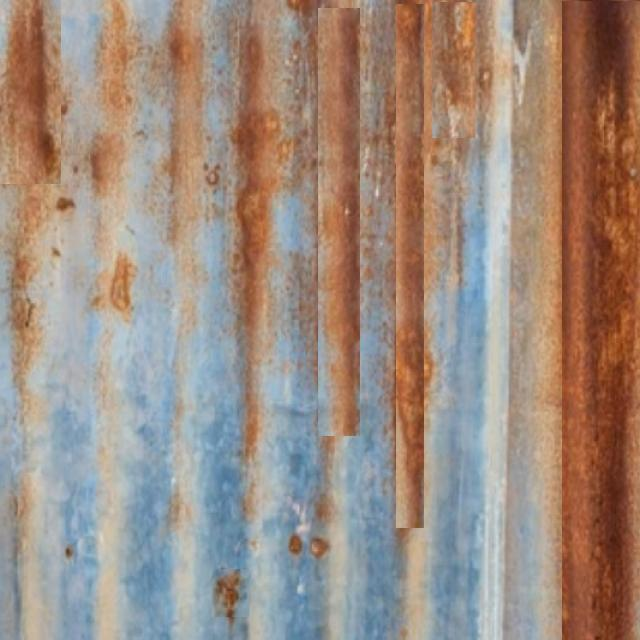Corrosion: (564, 0, 640, 640), (236, 0, 288, 464), (0, 185, 60, 506), (396, 0, 432, 530), (319, 7, 360, 437), (169, 0, 206, 314), (90, 0, 138, 222), (4, 0, 60, 184), (433, 0, 477, 138)
